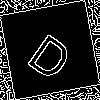D: (25, 25, 81, 83)
